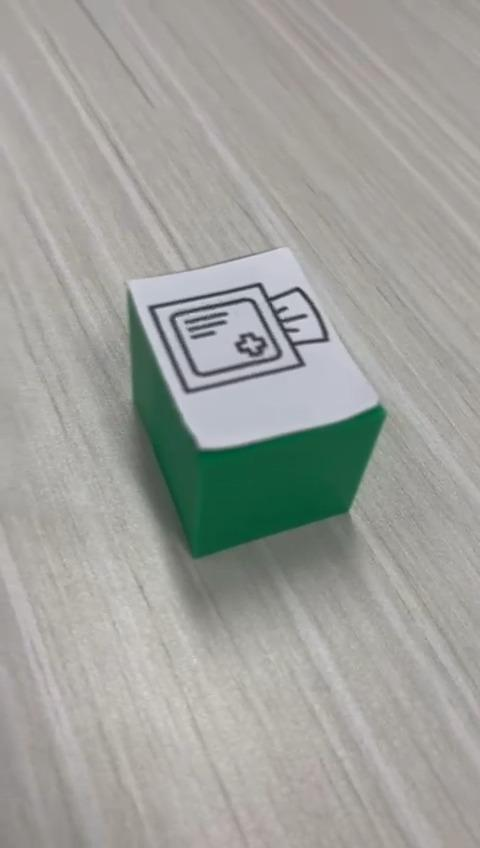Gauze: (124, 245, 387, 559)
